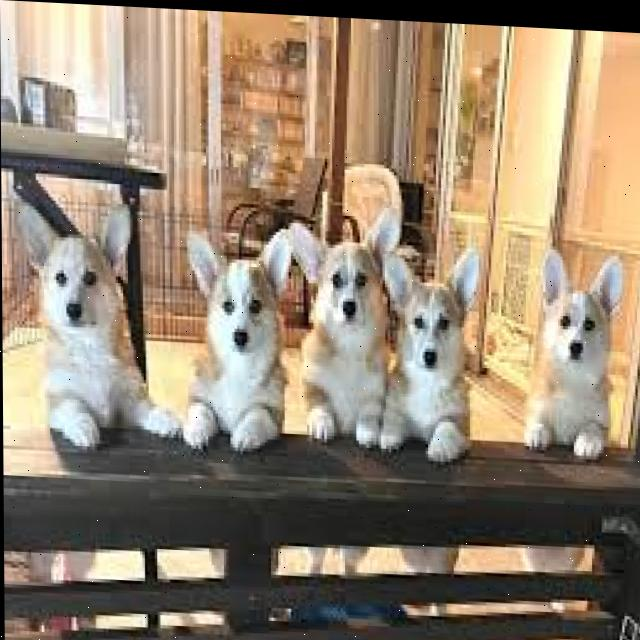CORGI: (15, 195, 175, 494), (283, 190, 409, 453), (178, 216, 301, 463), (374, 229, 487, 469), (514, 234, 627, 463)
